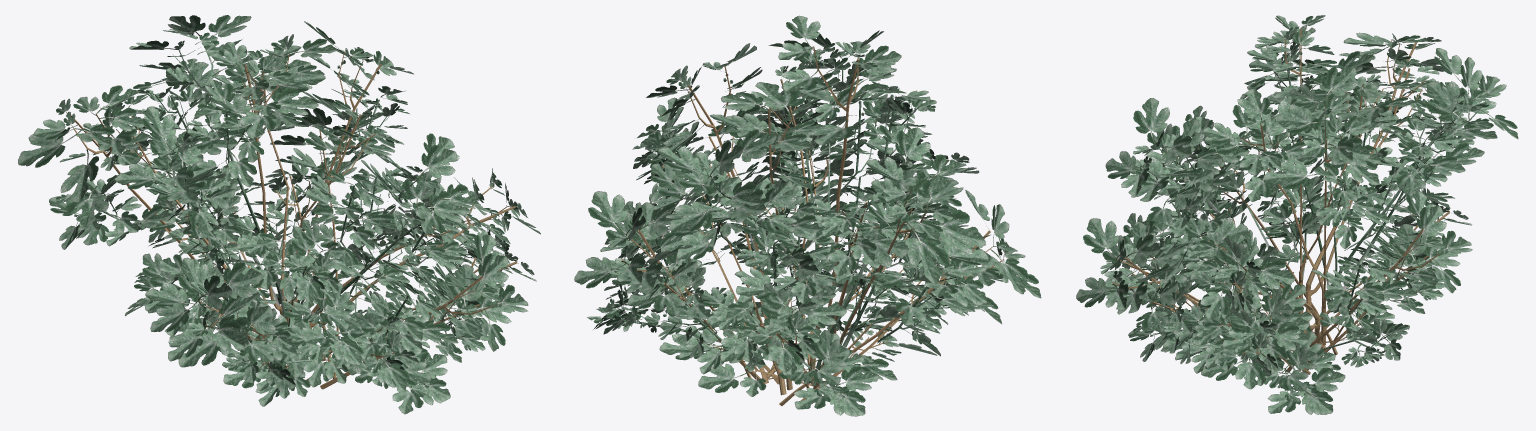
File: FicusCarica.glb
3 renders of one model, left to right at view 1: azimuth 30°, elevation 25°; view 2: azimuth 150°, elevation 25°; view 3: azimuth 270°, elevation 25°, orthographic. The views are drawn at different scales.
Visible parts, largest first — view 1: 059.001; view 2: 059.001; view 3: 059.001.
Part boxes in pixels (box(x1,y1,x2,y2)): 059.001: box(18, 15, 540, 414); 059.001: box(574, 15, 1041, 416); 059.001: box(1076, 15, 1518, 414).
Bounding box in the file's own units: 1.4 × 1.1 × 1.4.
2 materials, 2 textured.
